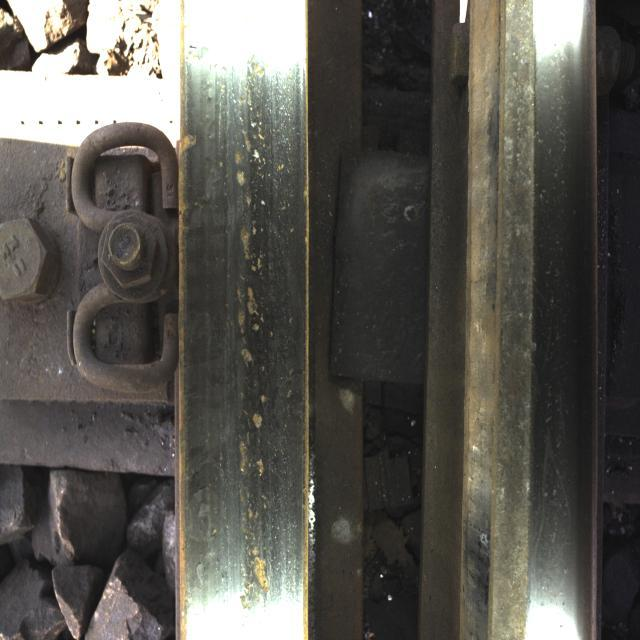scar: (210, 39, 288, 616)
